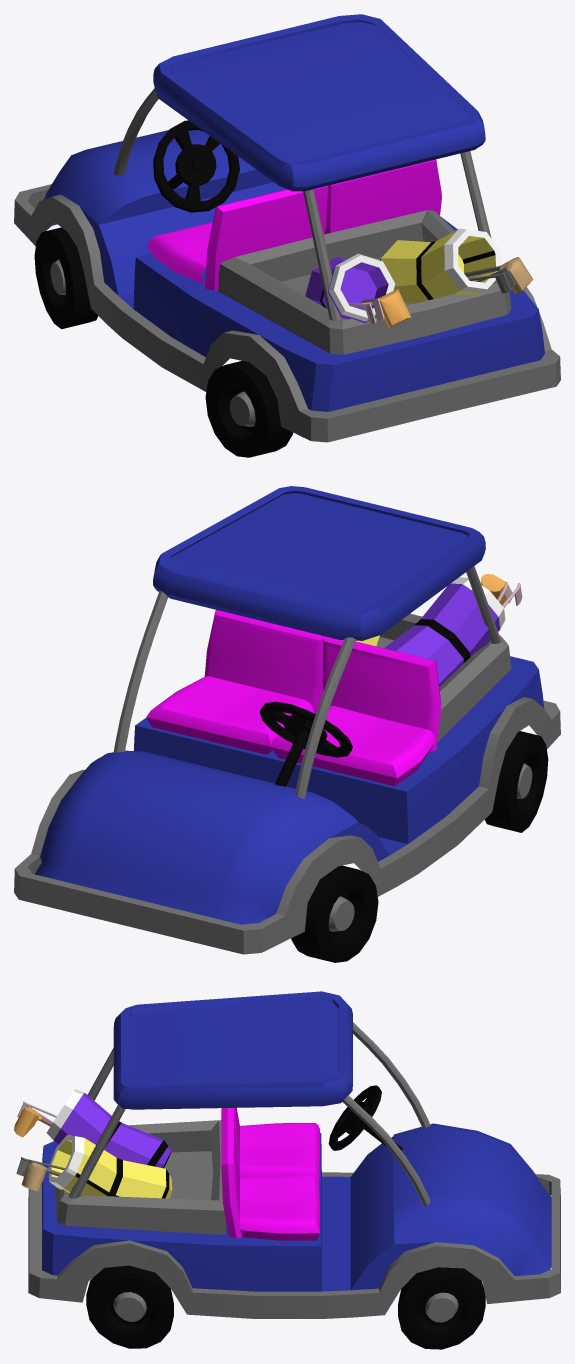
File: golfcart.fbx
3 renders of one model, top to bottom at view 1: azimuth 30°, elevation 25°; view 2: azimuth 150°, elevation 25°; view 3: azimuth 270°, elevation 25°, orthographic. The views are drawn at different scales.
Visible parts, largest first — view 1: Golfcart; view 2: Golfcart; view 3: Golfcart.
Boxes of the visible parts, left/top/right/bottom form: Golfcart: left=14, top=14, right=560, bottom=457; Golfcart: left=14, top=486, right=560, bottom=962; Golfcart: left=14, top=991, right=560, bottom=1349.
Size of the model in its own units: 189 by 173 by 342.
